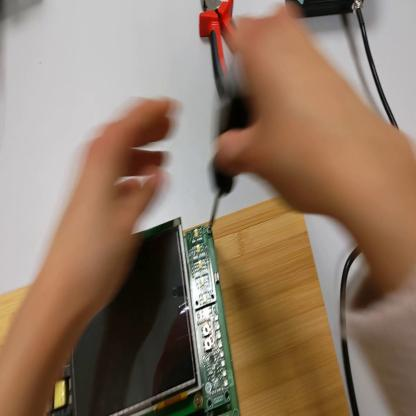hand: (212, 11, 349, 216), (50, 99, 173, 325)
low voltage board: (38, 228, 242, 416)
pliers: (199, 1, 239, 99)
screwdriver-: (207, 53, 254, 234)
welder station: (290, 1, 364, 19)
working area: (2, 199, 351, 413)
